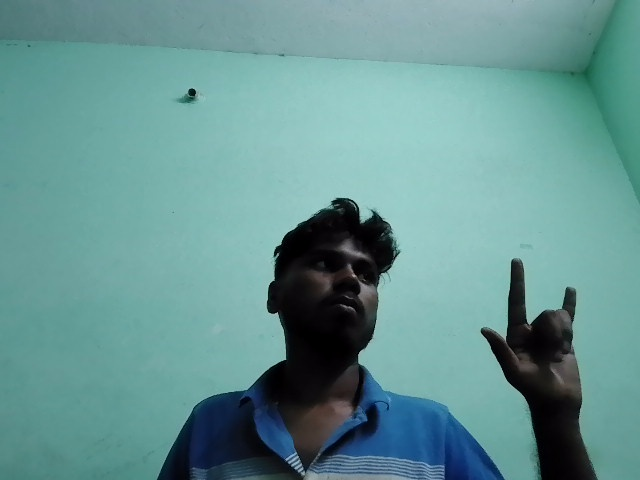I Love You: (469, 246, 611, 445)
